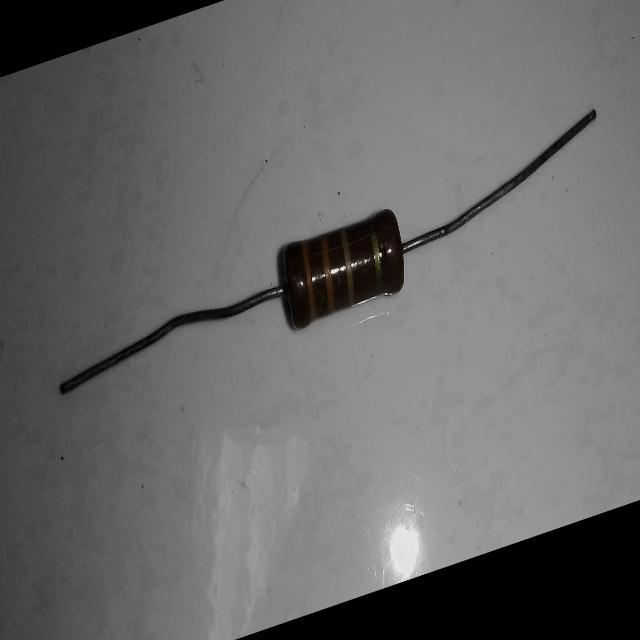Carbon Resistor: (49, 103, 629, 423)
